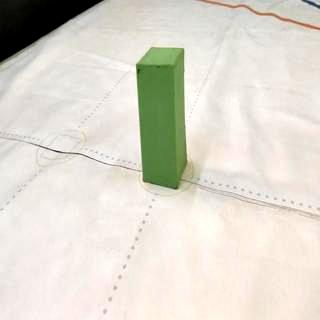greenbox: (134, 44, 188, 188)
